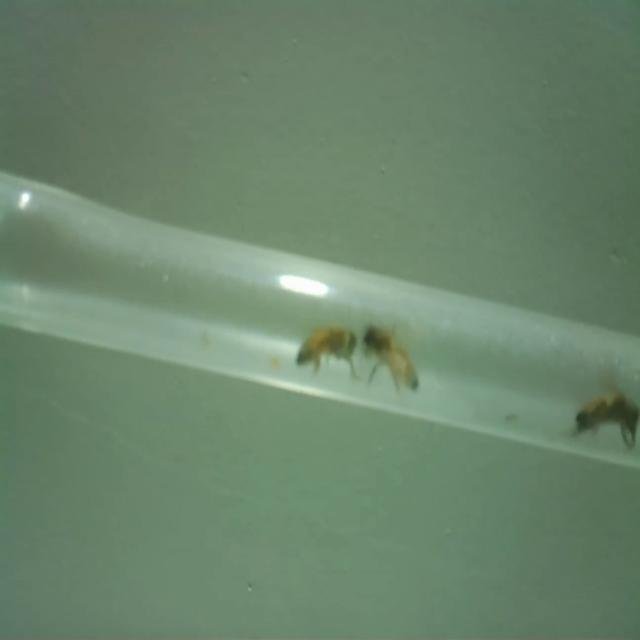Honeybee-Detection: (573, 370, 640, 449), (362, 323, 419, 393), (295, 323, 360, 379)
